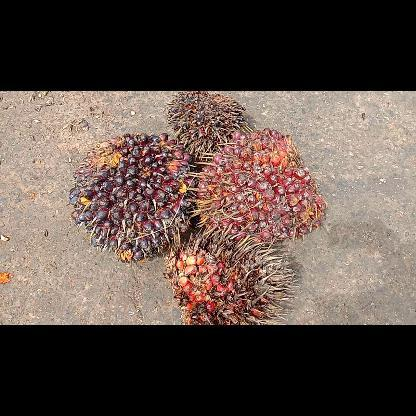Kurang masak: (66, 131, 196, 263)
TBS abnormal: (163, 91, 249, 159)
TBS masak: (192, 126, 328, 242)
Terlalu masak: (164, 228, 298, 324)
